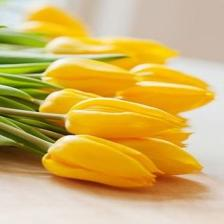yellow: (42, 135, 163, 188), (65, 98, 185, 139), (46, 36, 178, 69), (44, 58, 138, 97), (109, 138, 203, 175), (116, 81, 215, 114), (20, 6, 87, 38), (130, 63, 209, 88), (39, 89, 102, 114), (29, 7, 85, 35)
